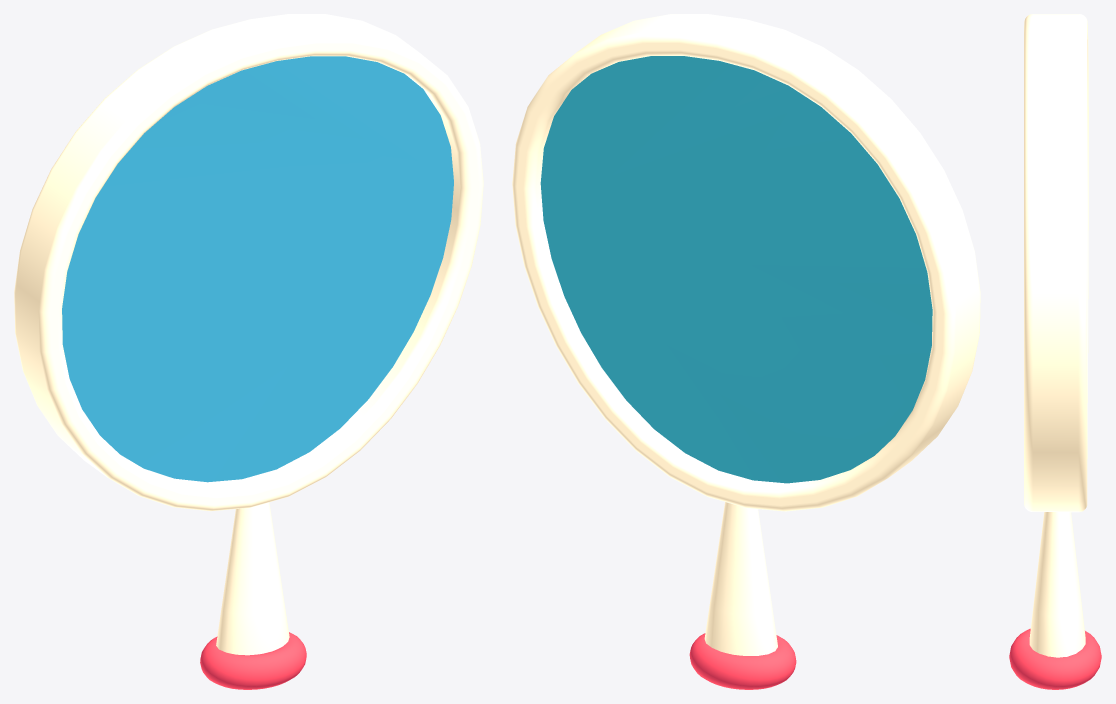
Rendered from Sign.fbx.
3 renders of one model, left to right at view 1: azimuth 30°, elevation 25°; view 2: azimuth 150°, elevation 25°; view 3: azimuth 270°, elevation 25°, orthographic.
Parts seen in each view (by area): view 1: Extrude, Sweep, Cone, Torus; view 2: Extrude, Sweep, Cone, Torus; view 3: Sweep, Cone, Torus.
Part boxes in pixels (x1=…): Extrude: x1=62, y1=56, x2=453, y2=482; Sweep: x1=14, y1=14, x2=483, y2=511; Cone: x1=216, y1=502, x2=289, y2=655; Torus: x1=200, y1=632, x2=306, y2=689; Extrude: x1=540, y1=56, x2=932, y2=483; Sweep: x1=512, y1=14, x2=980, y2=511; Cone: x1=704, y1=502, x2=777, y2=655; Torus: x1=689, y1=633, x2=796, y2=689; Sweep: x1=1024, y1=14, x2=1088, y2=512; Cone: x1=1029, y1=512, x2=1085, y2=657; Torus: x1=1009, y1=628, x2=1101, y2=689.
Size of the model in its own units: 1493 by 2088 by 275.
